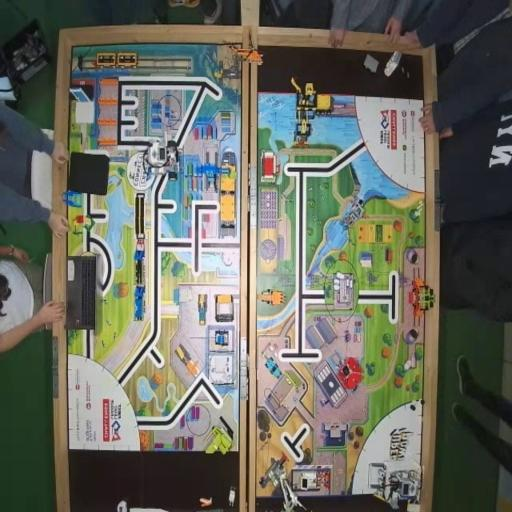lego_robot: (367, 462, 423, 512), (142, 131, 179, 184)
